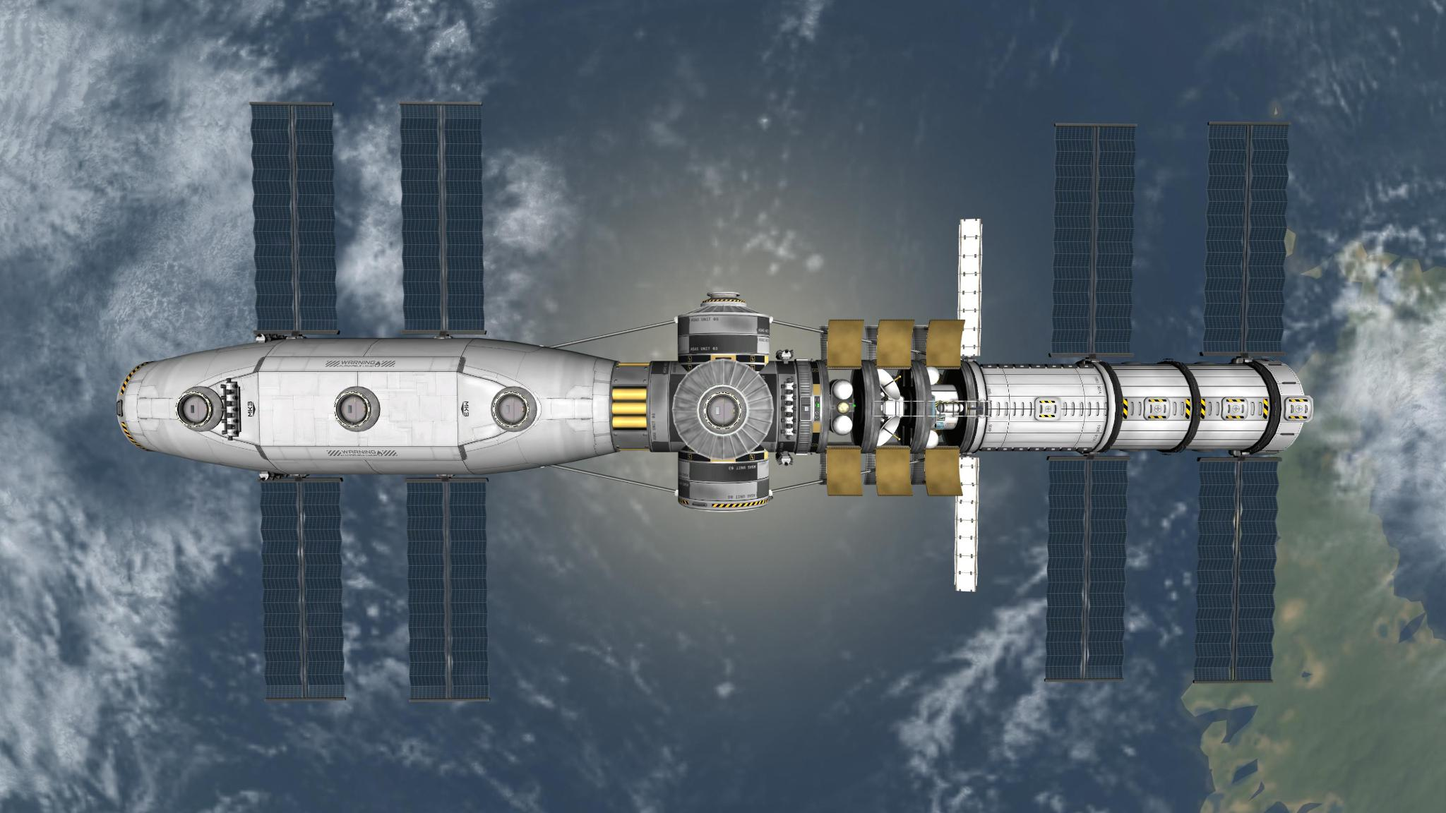antenna: (875, 368, 901, 401), (876, 416, 902, 447)
body: (107, 334, 616, 481), (639, 355, 1315, 459)
solar: (1196, 119, 1293, 360), (244, 100, 339, 339), (1046, 120, 1137, 362), (397, 100, 489, 338), (1190, 454, 1284, 686), (1041, 454, 1132, 686), (257, 476, 349, 704), (403, 475, 494, 703), (956, 216, 985, 359), (952, 453, 981, 594)
thruster: (220, 383, 227, 389), (232, 418, 239, 424), (259, 477, 266, 483), (791, 383, 797, 389), (233, 383, 239, 389), (233, 406, 239, 412), (221, 418, 227, 424), (227, 436, 233, 442), (226, 377, 233, 382), (232, 396, 239, 401), (220, 407, 227, 412), (233, 430, 240, 435), (221, 430, 228, 435), (784, 460, 789, 467), (268, 476, 275, 481), (256, 332, 263, 337), (265, 333, 273, 337), (271, 334, 279, 338), (780, 384, 786, 389), (791, 395, 797, 400), (780, 395, 786, 400), (792, 406, 798, 411), (781, 406, 787, 411), (780, 418, 786, 423), (791, 418, 797, 423), (792, 429, 798, 434), (780, 429, 786, 434), (275, 476, 282, 480), (279, 335, 286, 339), (787, 378, 792, 383), (784, 349, 789, 354), (220, 395, 226, 399), (283, 474, 289, 478), (787, 435, 791, 440)
